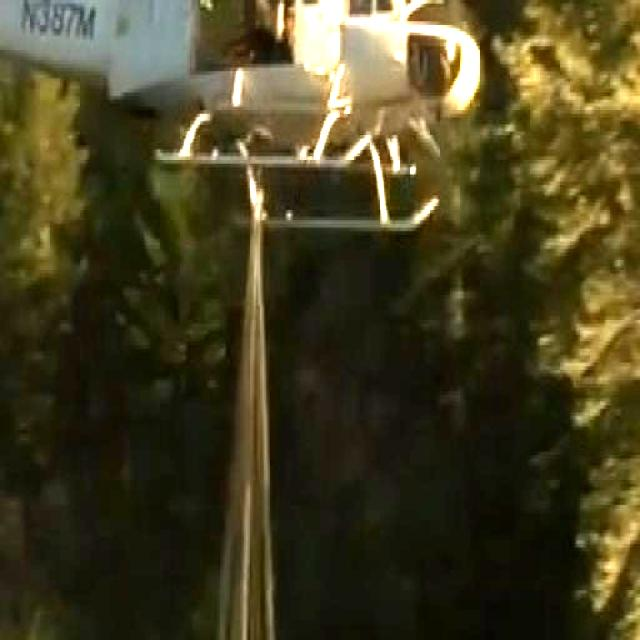drone: (0, 0, 530, 255)
